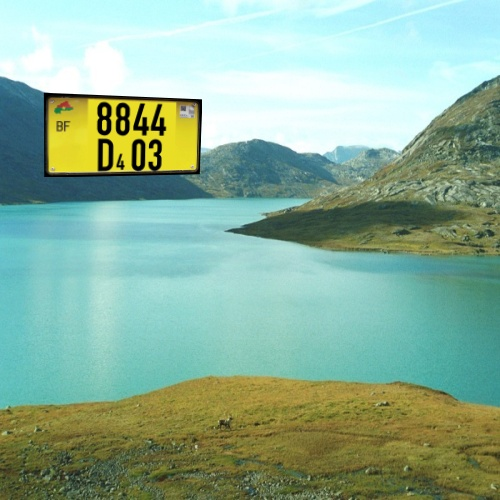plate: (34, 76, 208, 192)
